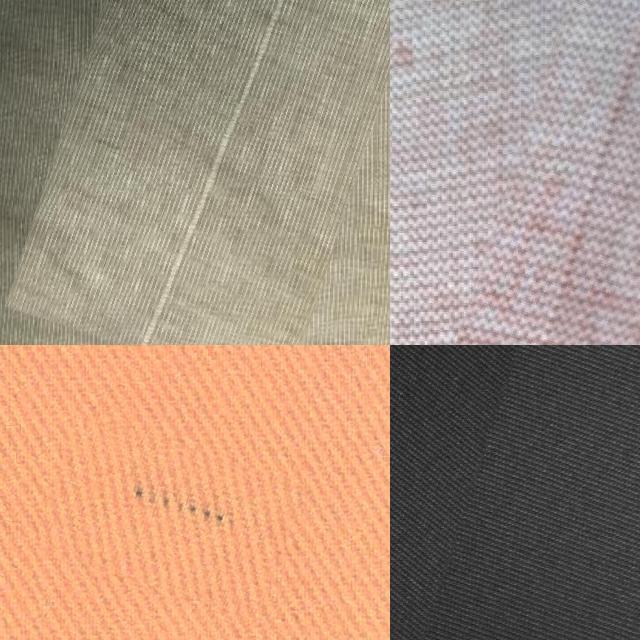Thread_other: (50, 0, 390, 345), (456, 0, 640, 345), (41, 428, 297, 604), (390, 345, 510, 640)
